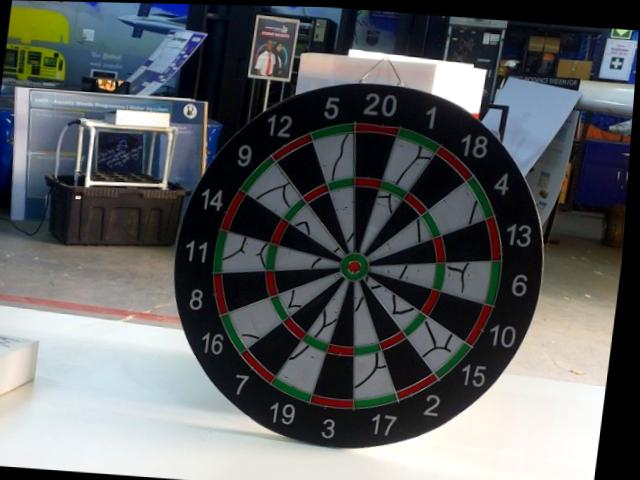double_1: (396, 129, 446, 153)
double_10: (467, 305, 492, 346)
double_11: (212, 228, 228, 274)
double_12: (272, 134, 311, 163)
double_13: (486, 220, 507, 261)
double_14: (222, 188, 244, 229)
double_15: (434, 344, 472, 383)
double_16: (216, 313, 252, 356)
double_17: (354, 392, 399, 413)
double_18: (436, 151, 471, 177)
double_19: (268, 380, 319, 404)
double_2: (401, 373, 439, 400)
double_20: (358, 125, 397, 135)
double_3: (312, 395, 355, 411)
double_4: (465, 178, 497, 218)
double_5: (313, 122, 354, 142)
double_6: (485, 261, 504, 305)
double_7: (236, 347, 280, 384)
double_8: (208, 274, 234, 316)
double_9: (244, 160, 273, 190)
